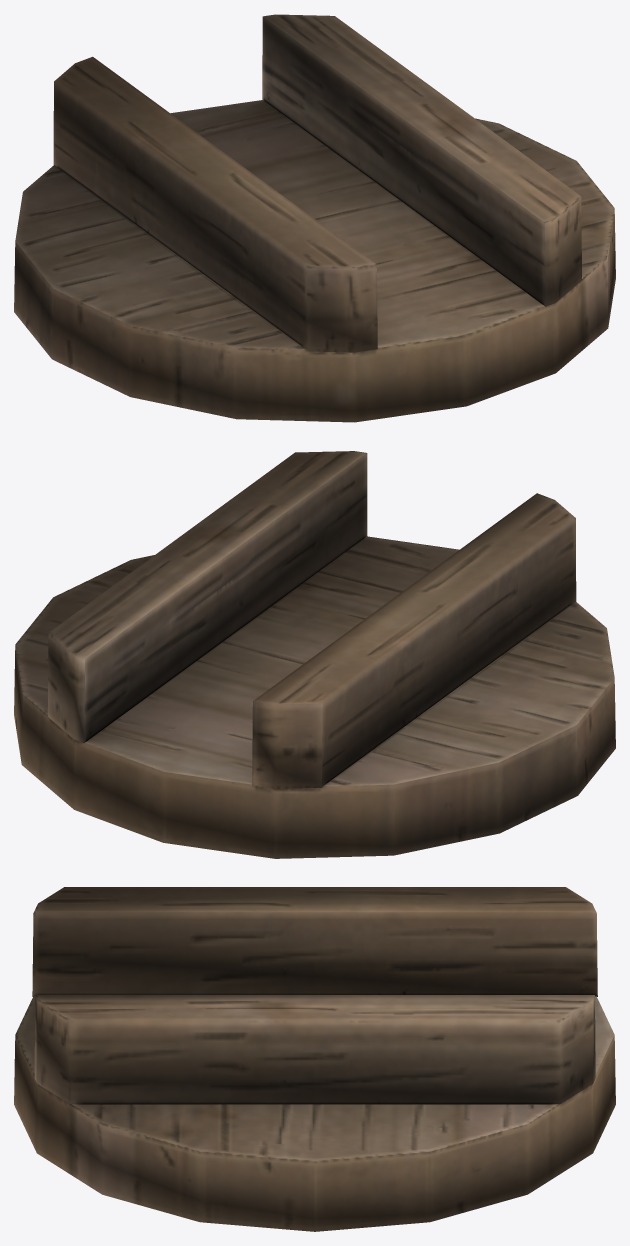
File: jov_cooker01b.fbx
3 views of the same model, one above another, from view 1: azimuth 30°, elevation 25°; view 2: azimuth 150°, elevation 25°; view 3: azimuth 270°, elevation 25° (orthographic).
Visible parts, largest first — view 1: jov_cooker01b; view 2: jov_cooker01b; view 3: jov_cooker01b.
Part boxes in pixels (left/top/right/bottom): jov_cooker01b: left=14, top=14, right=615, bottom=422; jov_cooker01b: left=14, top=451, right=615, bottom=858; jov_cooker01b: left=14, top=887, right=615, bottom=1231.
Size of the model in its own units: 63.19 by 17.7 by 63.19.
